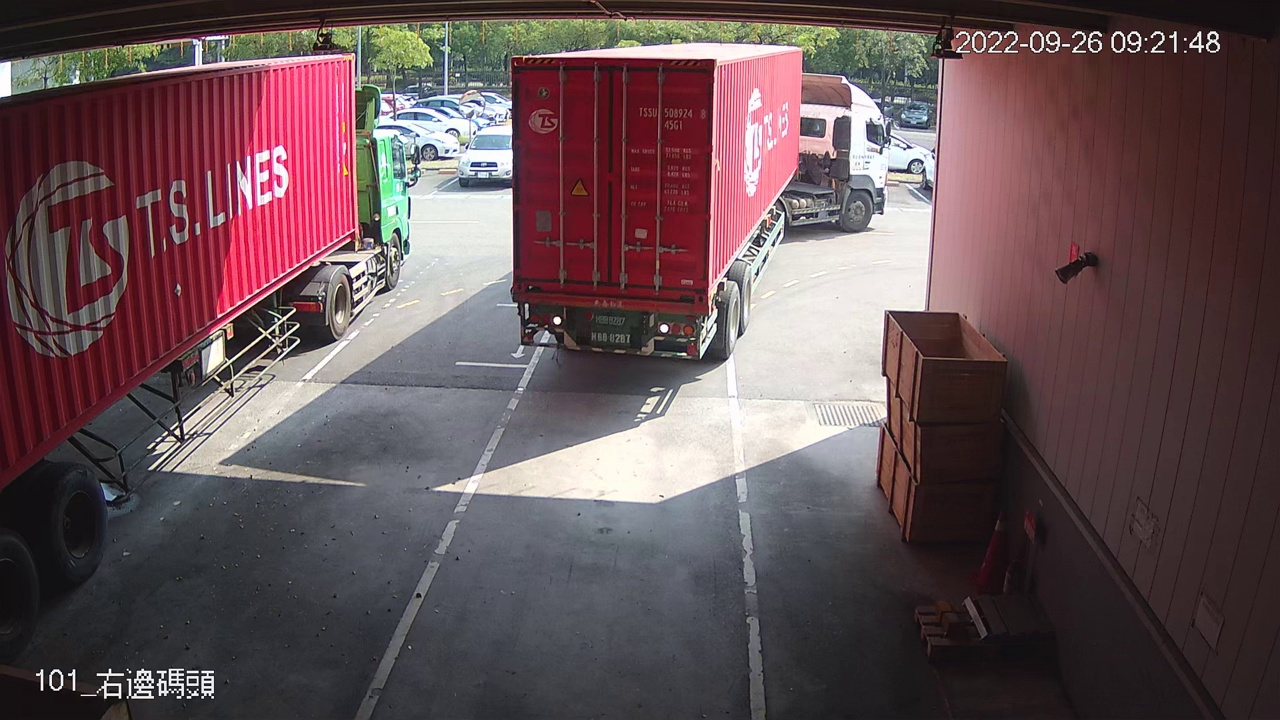container: (630, 101, 711, 136)
